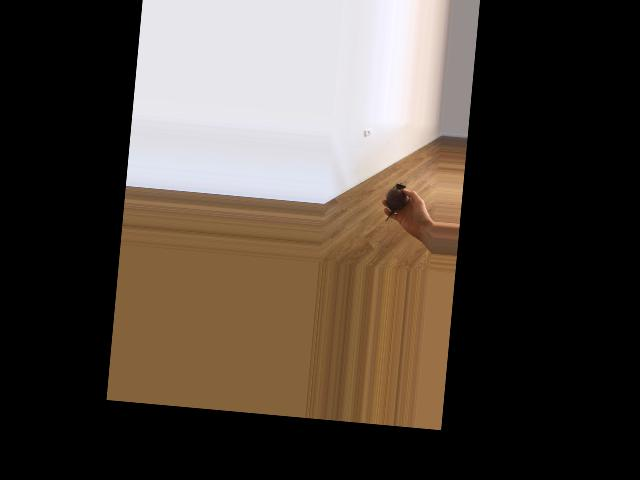beet: (383, 182, 409, 222)
